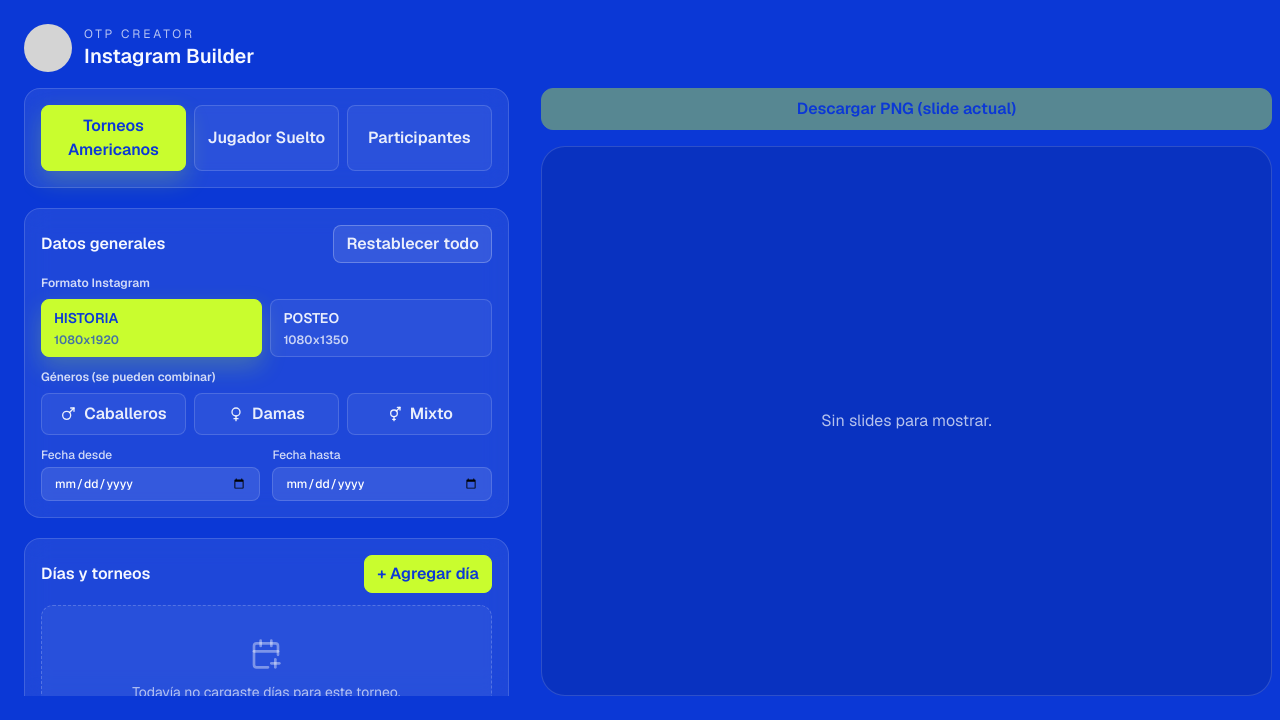
Test: PostBuilder › agregar día crea bloque editable
The image size is (1280, 720).
Click the button "+ Agregar día".
click(428, 574)  # box [364,555,492,593]
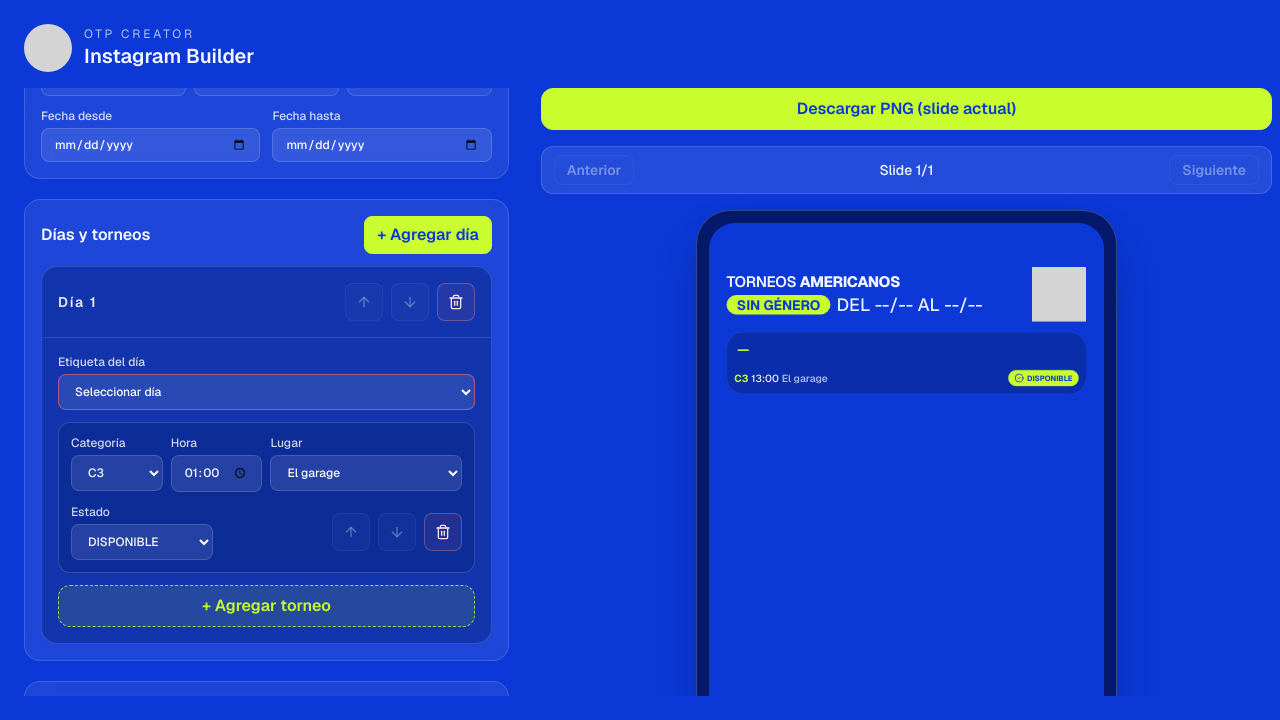
Expected: the text "Día 1" is shown, [58,292,98,312]
Expected: the dropdown labelled "Etiqueta del día" is shown, [58,374,475,410]
